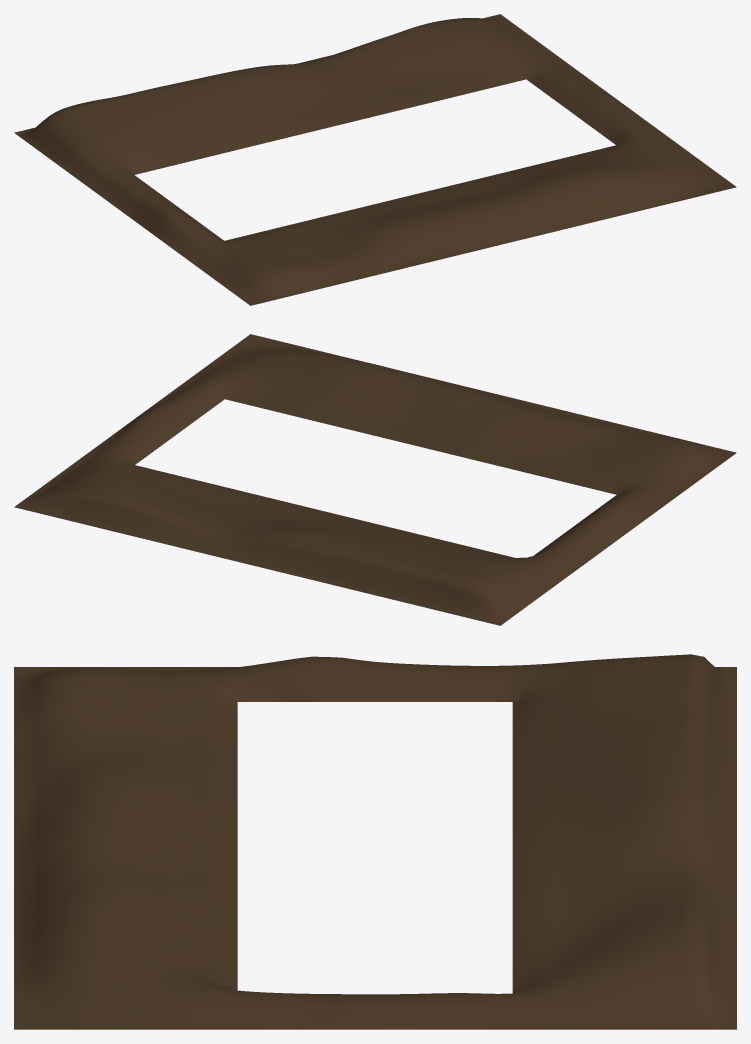
The model's file is Terrain.fbx.
3 renders of one model, top to bottom at view 1: azimuth 30°, elevation 25°; view 2: azimuth 150°, elevation 25°; view 3: azimuth 270°, elevation 25°, orthographic. The views are drawn at different scales.
Parts seen in each view (by area): view 1: Terrain; view 2: Terrain; view 3: Terrain.
Boxes of the visible parts, bbox=[...] form: Terrain: bbox=[14, 14, 736, 305]; Terrain: bbox=[14, 334, 736, 625]; Terrain: bbox=[14, 654, 736, 1029].
Bounding box in the file's own units: 11878 × 600 × 10005.
